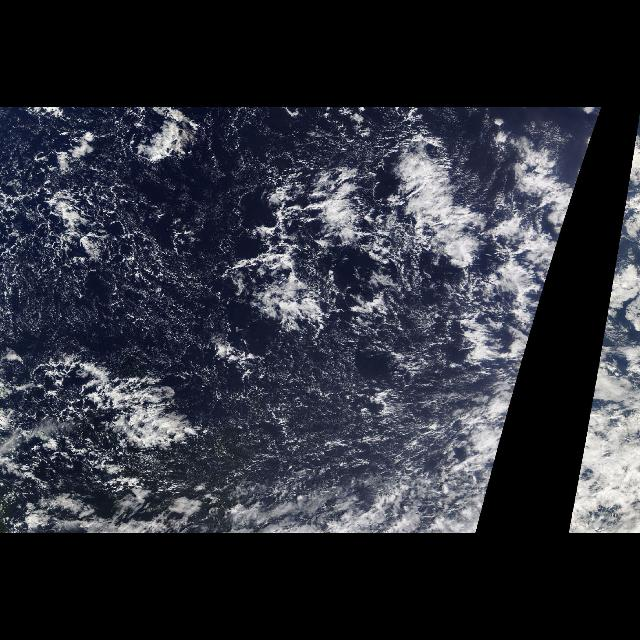Fish: (266, 116, 574, 310)
Gravel: (1, 108, 430, 506)
Sugar: (1, 109, 453, 507)
